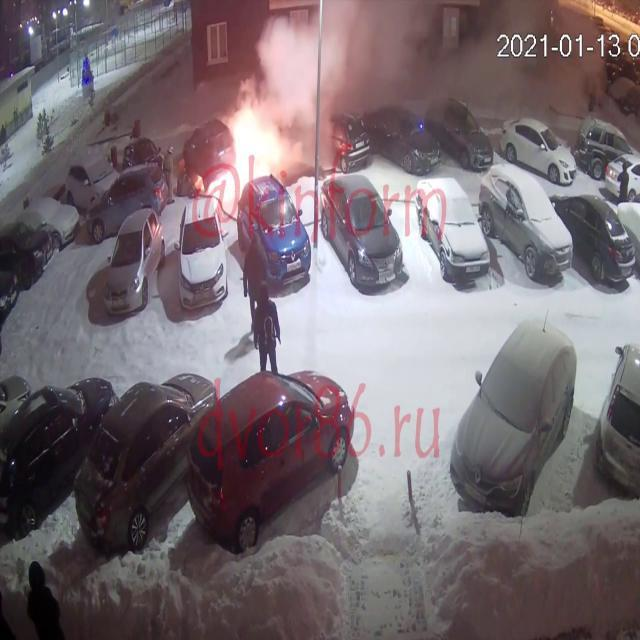Fire: (208, 98, 292, 206)
Smoke: (244, 1, 614, 151)
